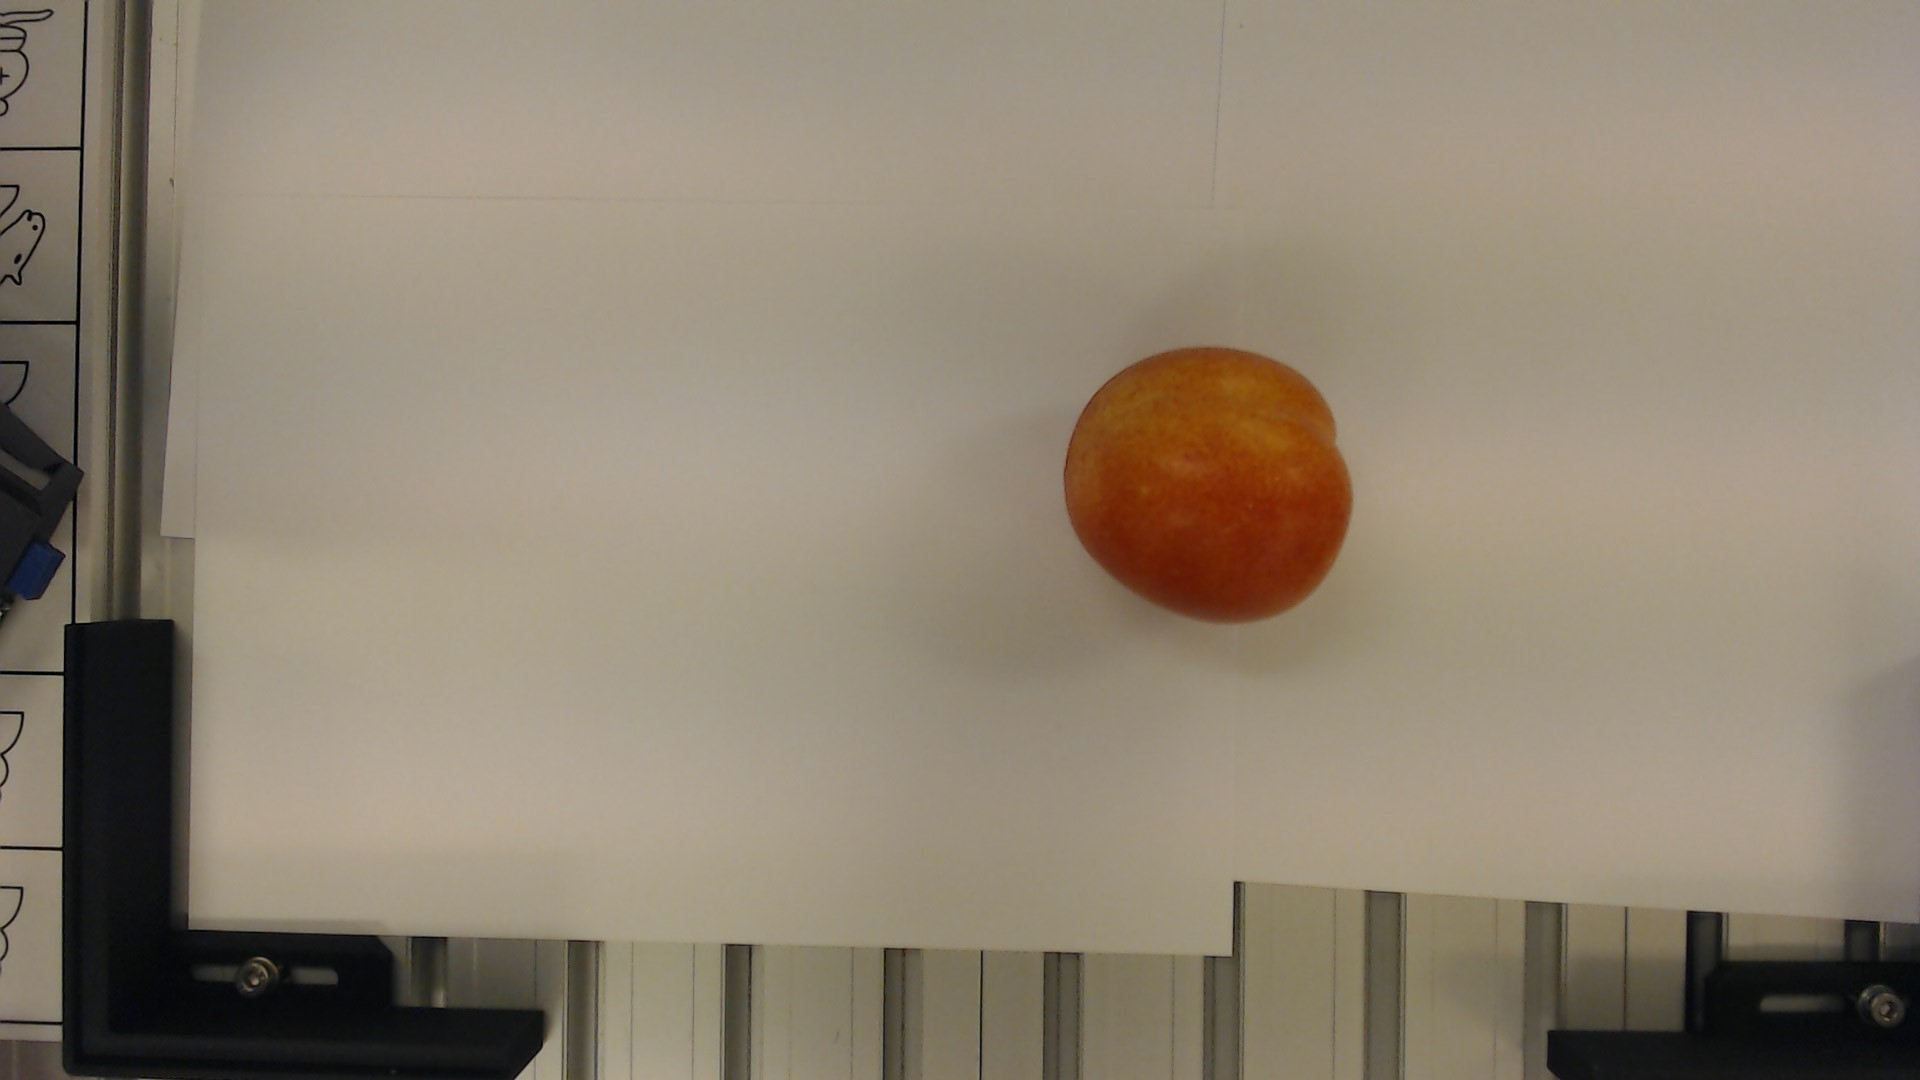Peach: (1069, 348, 1358, 626)
